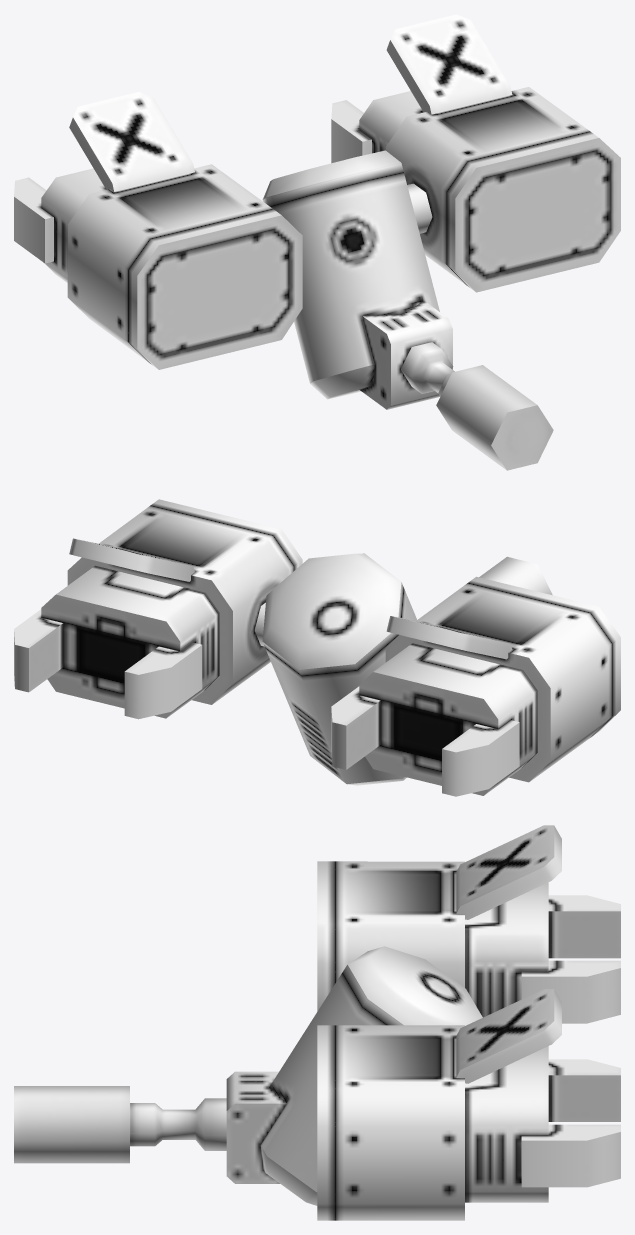
File: Enemy_MG.FBX
The picture shows the model from 3 angles, top to bottom: view 1: azimuth 30°, elevation 25°; view 2: azimuth 150°, elevation 25°; view 3: azimuth 270°, elevation 25°; orthographic projection. The views are drawn at different scales.
Visible parts, largest first — view 1: Enemy_MG, Enemy_MG_Up_Armor, Enemy_MG_Up_Gun, Enemy_MG_Up_Speed; view 2: Enemy_MG, Enemy_MG_Up_Speed, Enemy_MG_Up_Armor, Enemy_MG_Up_Gun; view 3: Enemy_MG, Enemy_MG_Up_Speed, Enemy_MG_Up_Armor, Enemy_MG_Up_Gun.
Boxes of the visible parts, bbox=[...] form: Enemy_MG: bbox=[41, 87, 620, 409]; Enemy_MG_Up_Armor: bbox=[69, 14, 512, 191]; Enemy_MG_Up_Gun: bbox=[436, 365, 553, 470]; Enemy_MG_Up_Speed: bbox=[14, 100, 371, 263]; Enemy_MG: bbox=[41, 499, 620, 795]; Enemy_MG_Up_Speed: bbox=[14, 609, 519, 796]; Enemy_MG_Up_Armor: bbox=[69, 538, 512, 659]; Enemy_MG_Up_Gun: bbox=[479, 556, 552, 595]; Enemy_MG: bbox=[130, 861, 548, 1220]; Enemy_MG_Up_Speed: bbox=[521, 895, 620, 1187]; Enemy_MG_Up_Armor: bbox=[456, 825, 561, 1083]; Enemy_MG_Up_Gun: bbox=[14, 1086, 129, 1163].
Bounding box in the file's own units: 132 × 69.16 × 135.
